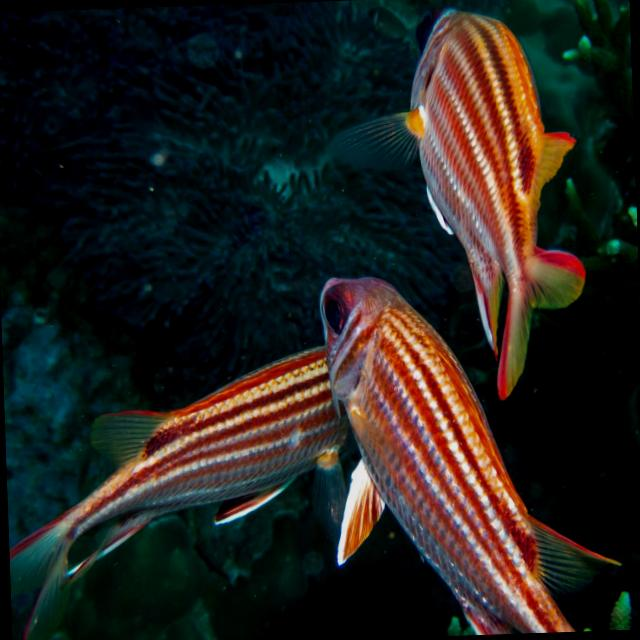Asker Baligi: (303, 246, 627, 640), (381, 0, 622, 406)
